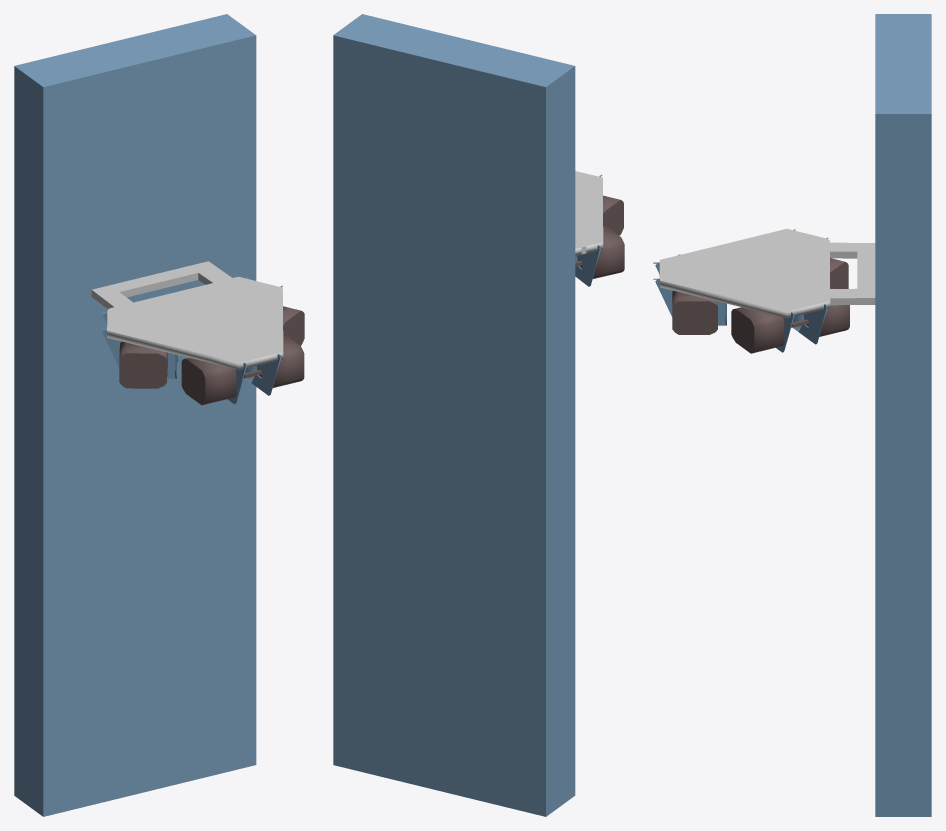
3 renders of one model, left to right at view 1: azimuth 30°, elevation 25°; view 2: azimuth 150°, elevation 25°; view 3: azimuth 270°, elevation 25°, orthographic. The views are drawn at different scales.
Visible parts, largest first — view 1: Cube_2, Cube_1, Cube_008, Cube_000, Cube_009, Cube_10, Cube_001, Cube_6; view 2: Cube_2, Cube_1, Cube_000, Cube_008, Cube_6; view 3: Cube_2, Cube_1, Cube_001, Cube_009, Cube_002, Cube_4, Cube_12.
Boxes of the visible parts, <box> form: Cube_2: <box>14,14,256,816</box>; Cube_1: <box>91,261,283,369</box>; Cube_008: <box>181,358,243,405</box>; Cube_000: <box>119,341,167,388</box>; Cube_009: <box>244,334,304,387</box>; Cube_10: <box>245,354,282,395</box>; Cube_001: <box>283,306,304,345</box>; Cube_6: <box>100,329,176,378</box>; Cube_2: <box>333,14,575,816</box>; Cube_1: <box>575,171,603,255</box>; Cube_000: <box>575,226,624,278</box>; Cube_008: <box>603,195,623,235</box>; Cube_6: <box>575,245,601,286</box>; Cube_2: <box>875,14,931,816</box>; Cube_1: <box>659,229,875,318</box>; Cube_001: <box>731,307,791,353</box>; Cube_009: <box>672,290,717,334</box>; Cube_002: <box>791,285,849,336</box>; Cube_4: <box>792,304,828,344</box>; Cube_12: <box>830,258,848,288</box>.
Size of the model in its own units: 2.98 by 3.51 by 9.78.
